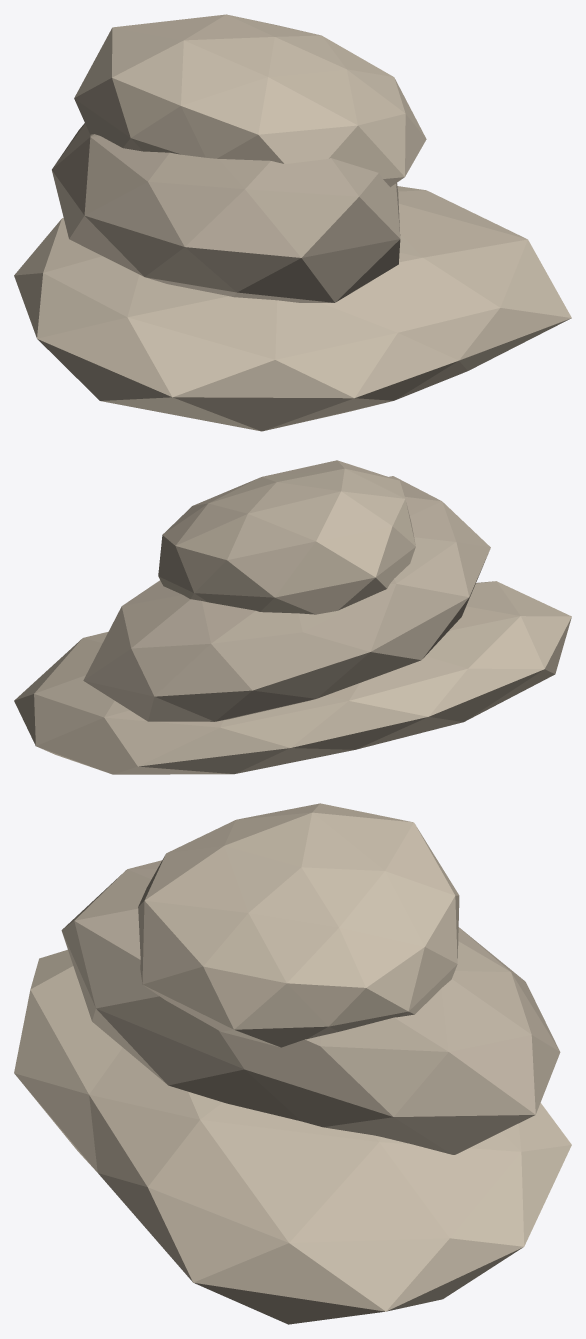
The model's file is campo_rock_slate_7.glb.
3 views of the same model, one above another, from view 1: azimuth 30°, elevation 25°; view 2: azimuth 150°, elevation 25°; view 3: azimuth 270°, elevation 25° (orthographic). The views are drawn at different scales.
Parts seen in each view (by area): view 1: campo_rock_slate_7.glb; view 2: campo_rock_slate_7.glb; view 3: campo_rock_slate_7.glb.
Part boxes in pixels (<box>): campo_rock_slate_7.glb: <box>14,14,571,431</box>; campo_rock_slate_7.glb: <box>14,460,571,774</box>; campo_rock_slate_7.glb: <box>14,803,571,1324</box>.
Size of the model in its own units: 2.31 by 1.39 by 1.98.
